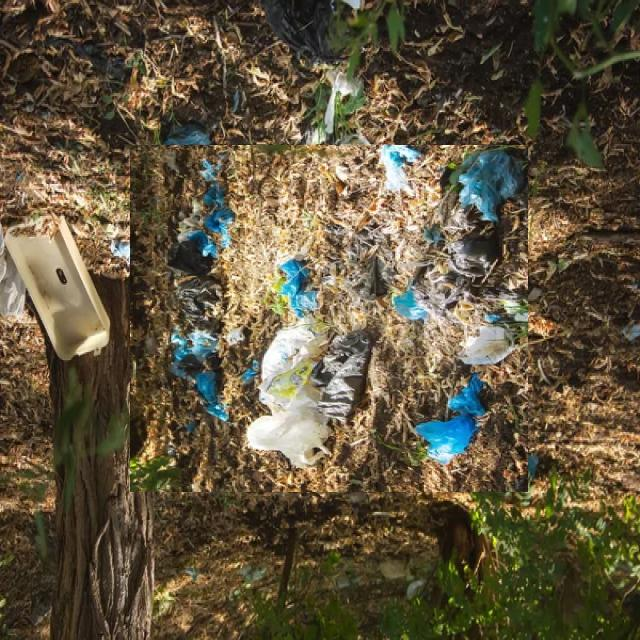garbage: (143, 133, 516, 505)
